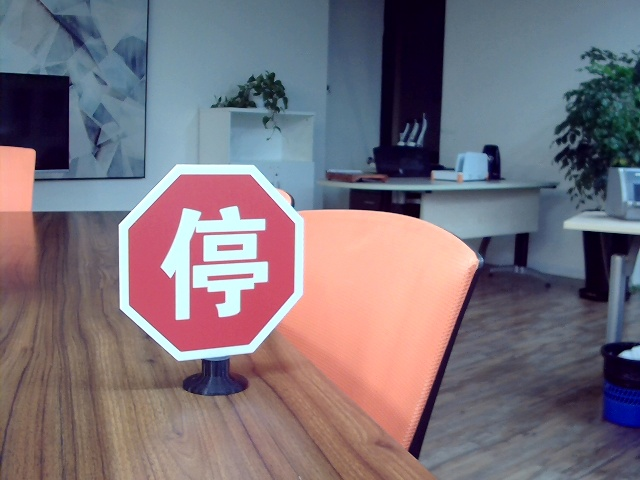stop: (159, 203, 269, 315)
